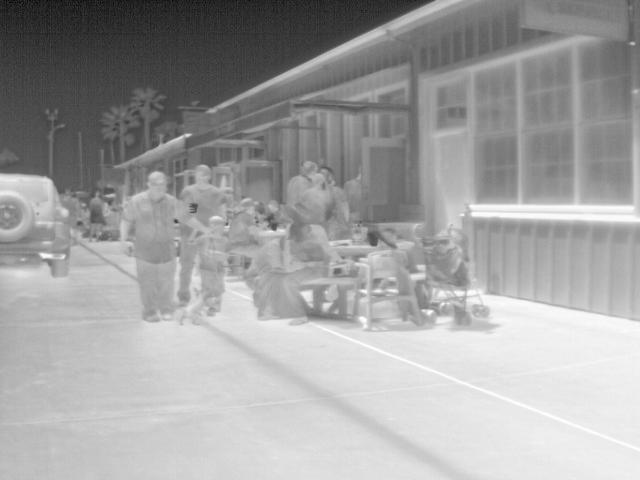car: (0, 170, 75, 278)
dog: (168, 296, 213, 326)
person: (113, 174, 200, 320), (256, 200, 346, 325), (192, 220, 225, 312), (176, 165, 222, 217), (226, 197, 263, 259), (297, 174, 333, 236), (319, 167, 351, 223), (283, 160, 315, 206), (84, 190, 108, 243), (341, 164, 362, 220), (265, 198, 287, 230)
